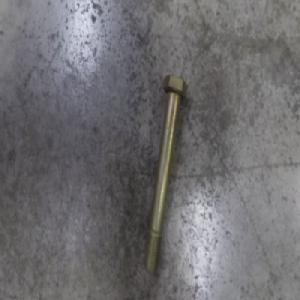Bolt: (142, 72, 187, 275)
